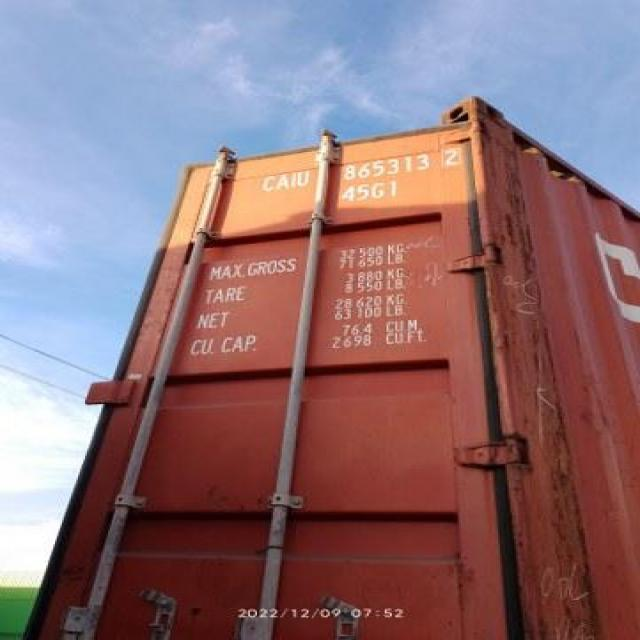ISO: (340, 176, 402, 209)
container_number: (257, 143, 479, 193)
